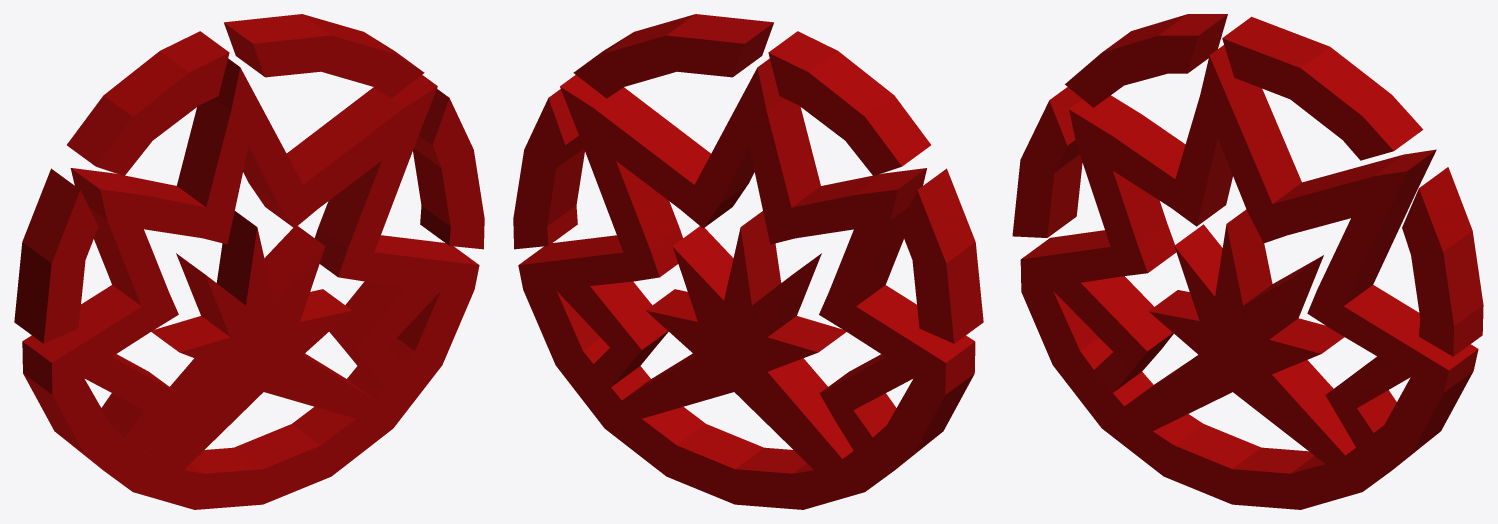
Rendered from PowerUpBarrel.fbx.
3 views of the same model, side by side, from view 1: azimuth 30°, elevation 25°; view 2: azimuth 150°, elevation 25°; view 3: azimuth 330°, elevation 25° (orthographic).
Parts seen in each view (by area): view 1: PowerUpBarrel; view 2: PowerUpBarrel; view 3: PowerUpBarrel.
Boxes of the visible parts, <box> form: PowerUpBarrel: <box>14,14,484,509</box>; PowerUpBarrel: <box>513,14,983,509</box>; PowerUpBarrel: <box>1012,14,1483,509</box>.
Bounding box in the file's own units: 5.27 × 5.29 × 0.6114.
